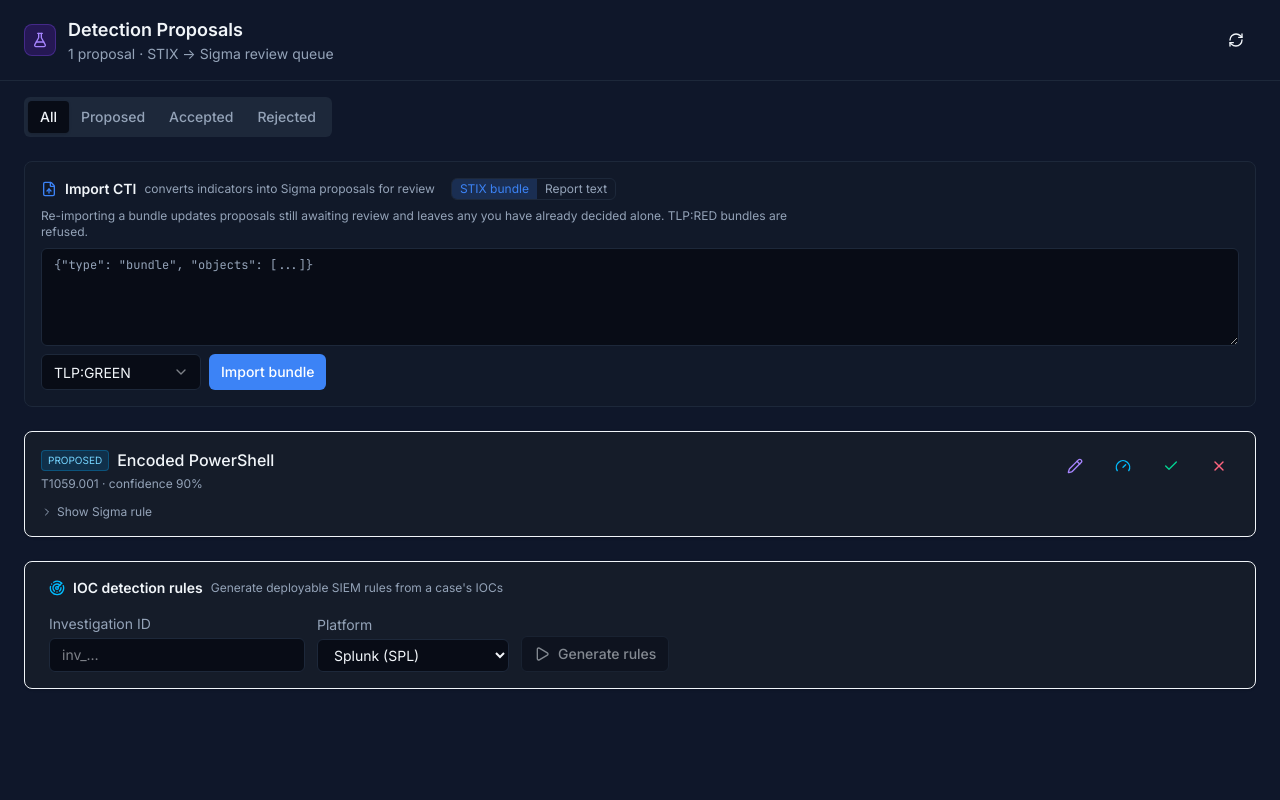
Test: DetectionProposalsPage › expands to show the Sigma rule
The image size is (1280, 800).
Click the button with test id "proposal-toggle-prop_ONE" at [97, 512], box top-left (41, 504), bottom-right (152, 520)
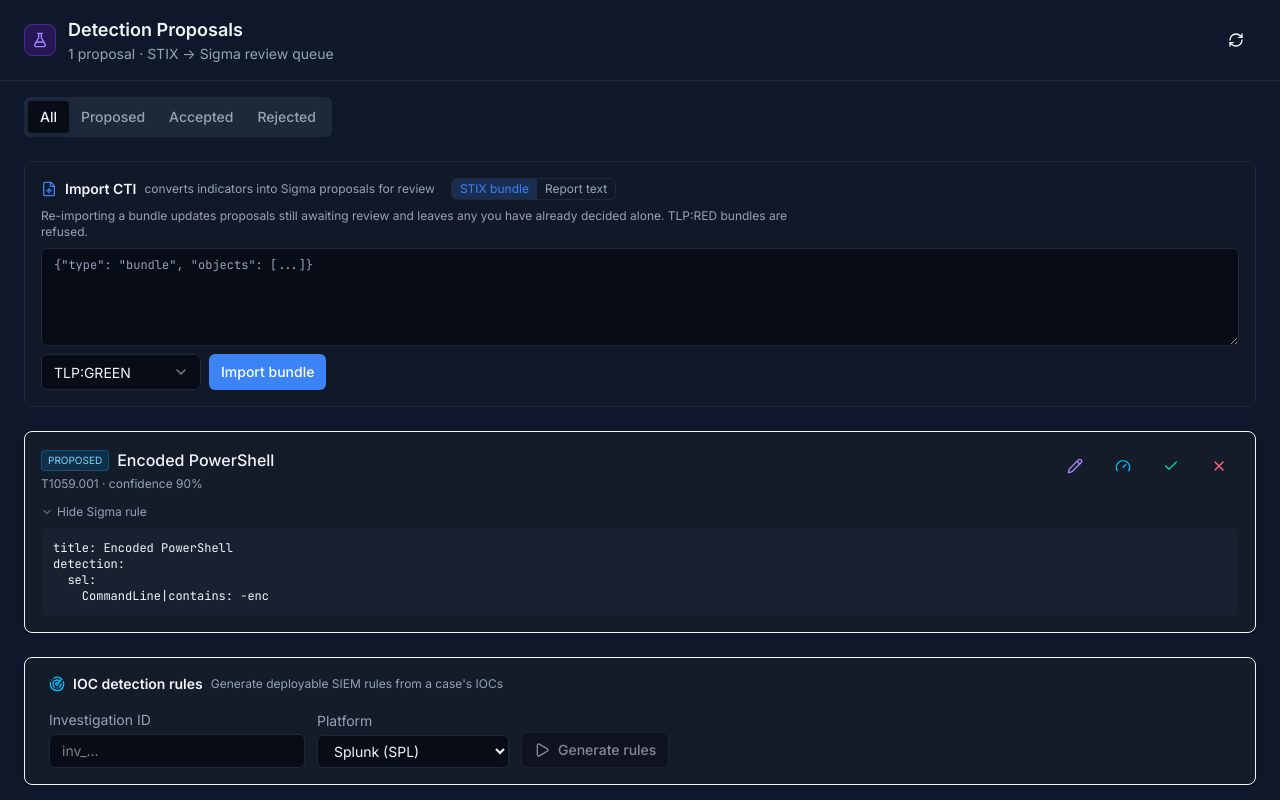
Expected: the text with test id "proposal-sigma-prop_ONE" is shown, top-left (41, 528), bottom-right (1239, 616)
